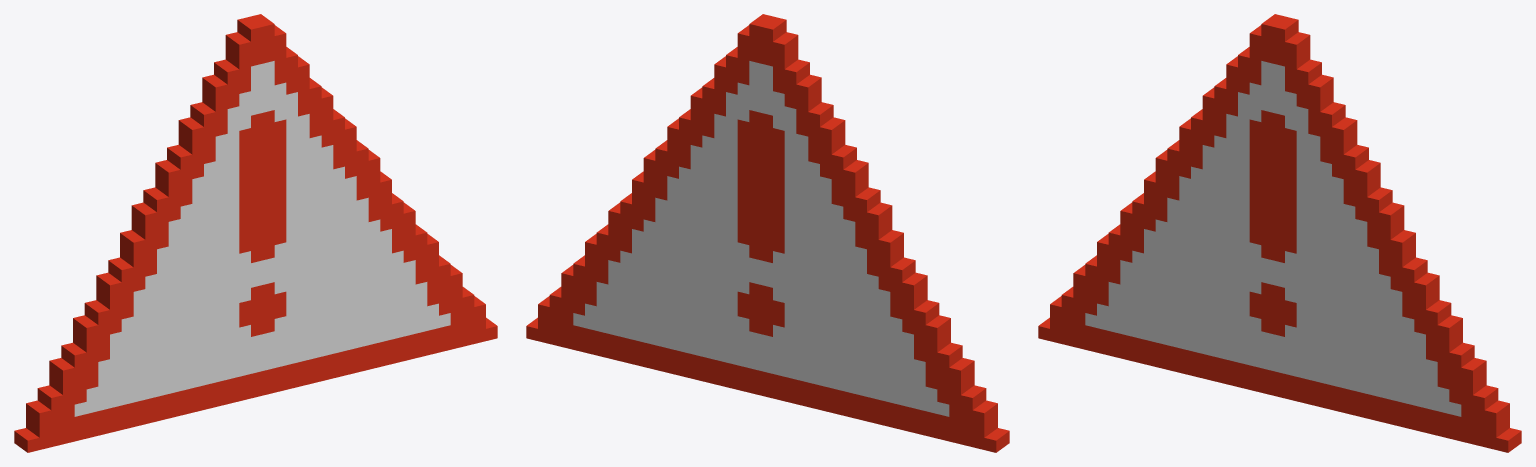
File: warningSign2.obj
3 renders of one model, left to right at view 1: azimuth 30°, elevation 25°; view 2: azimuth 150°, elevation 25°; view 3: azimuth 330°, elevation 25°, orthographic.
Bounding box in the file's own units: 40 × 30 × 2.
